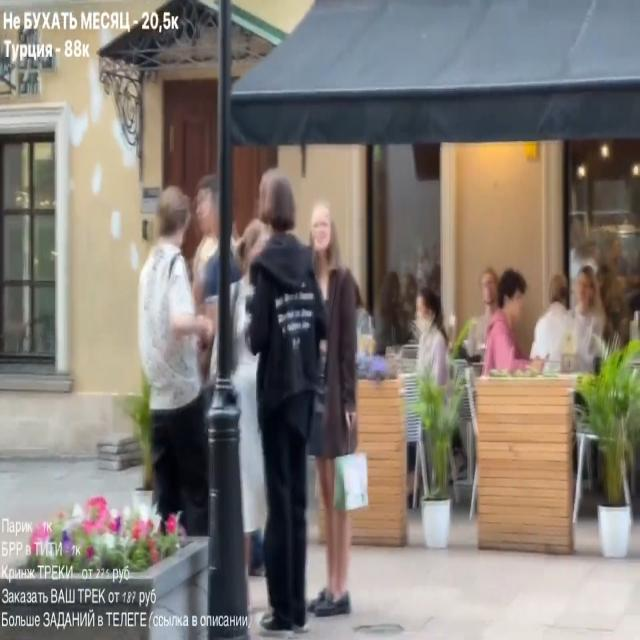Person: (241, 182, 362, 636), (136, 178, 222, 550), (482, 268, 534, 373), (574, 266, 614, 355)
